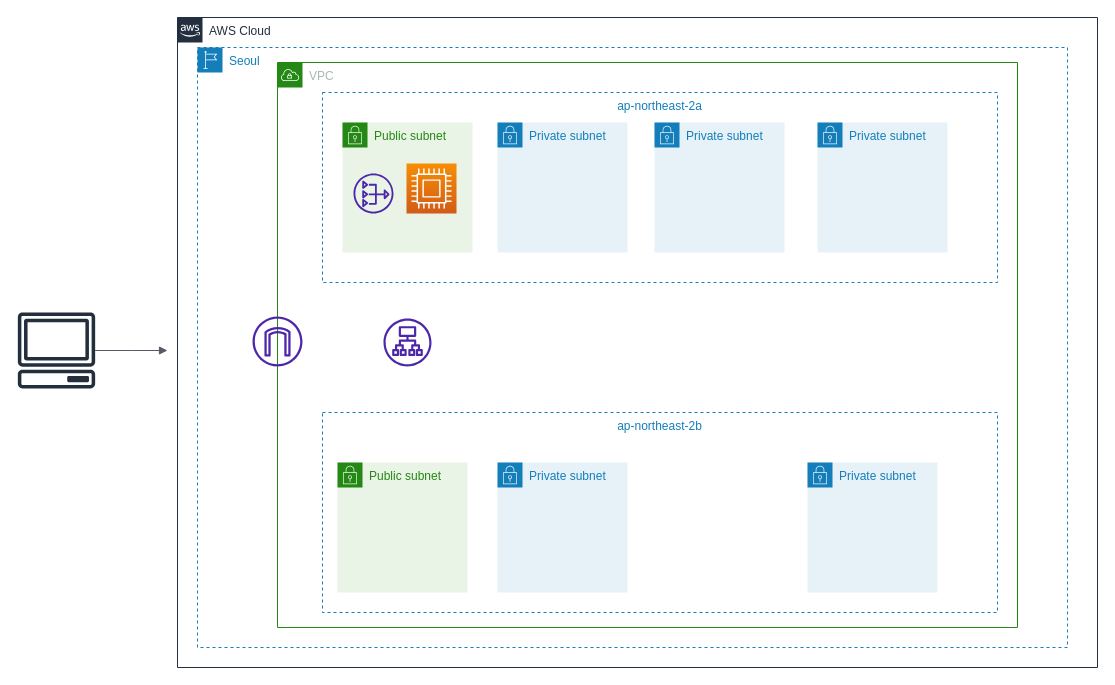
This 1115x685 diagram has some shape labels left out. The centre of each missing label's shape, as x and y in pixels:
"Bastion Host" belongs at [431,188].
"Front-End" belongs at [407,342].
"NAT" belongs at [373,193].
